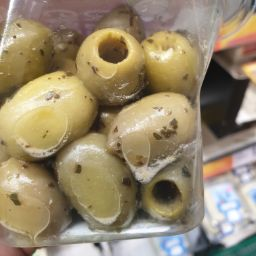Olives: (4, 16, 190, 225), (10, 143, 163, 244), (37, 121, 152, 233), (3, 70, 92, 160), (128, 14, 206, 100), (70, 22, 151, 102), (3, 12, 76, 81)
